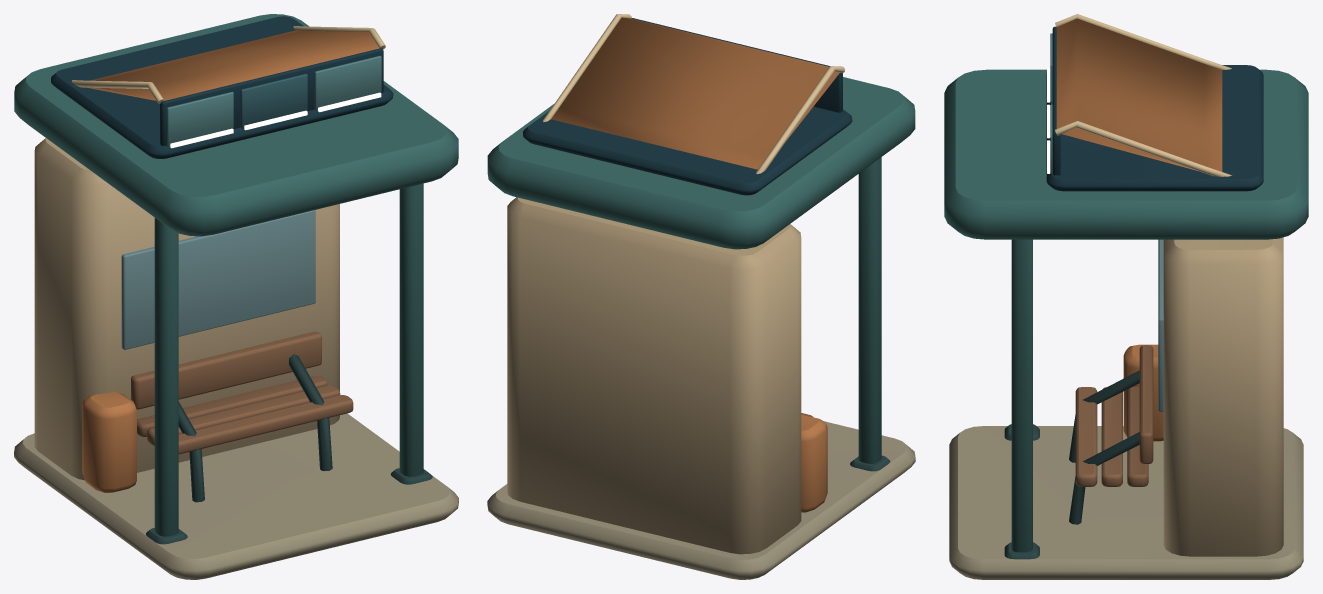
Rendered from annex_motel_4.glb.
3 views of the same model, side by side, from view 1: azimuth 30°, elevation 25°; view 2: azimuth 150°, elevation 25°; view 3: azimuth 270°, elevation 25° (orthographic). The views are drawn at different scales.
Parts seen in each view (by area): view 1: AnnexMotel4; view 2: AnnexMotel4; view 3: AnnexMotel4.
Part boxes in pixels (x1,y1,x2,y2): AnnexMotel4: (14,14,458,579); AnnexMotel4: (487,14,915,579); AnnexMotel4: (944,14,1308,579).
Size of the model in its own units: 2.33 by 3.44 by 2.55.
